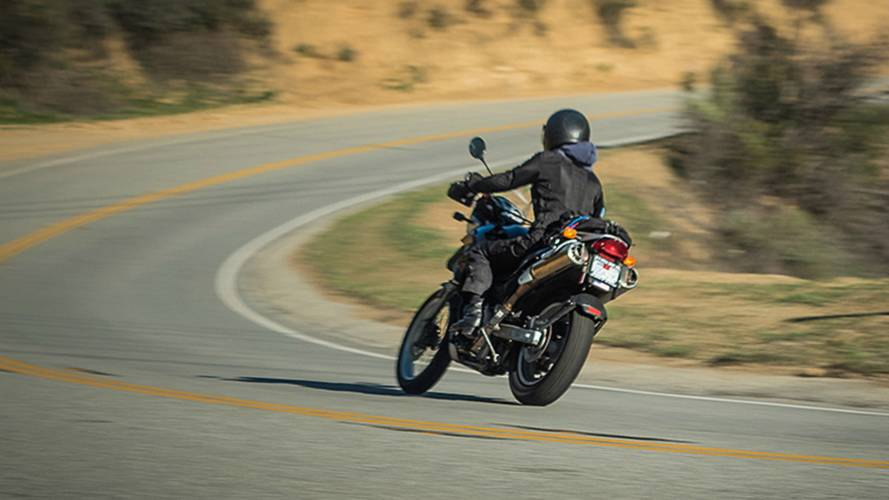motorcycle: (392, 137, 638, 413)
